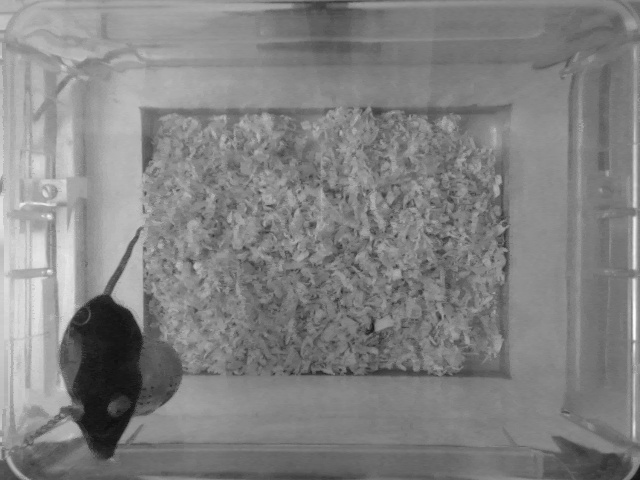mice: (58, 222, 147, 463)
